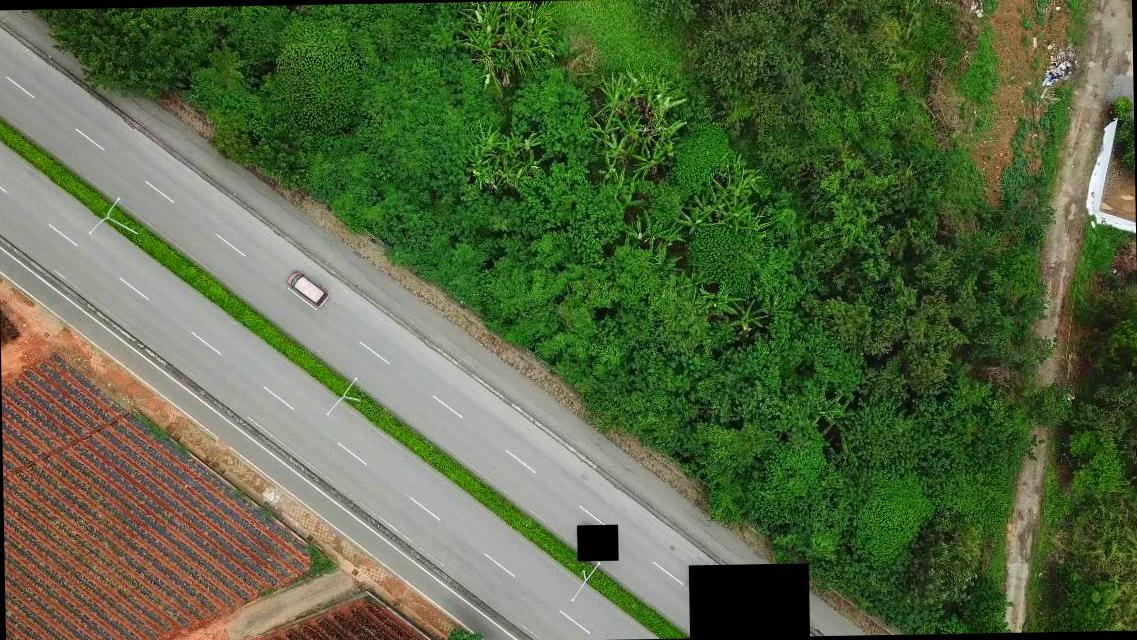vehicle: (284, 268, 326, 306)
